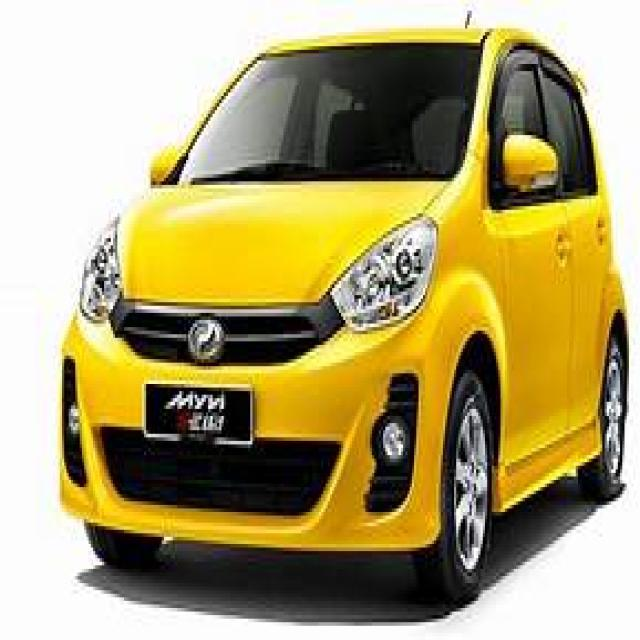PeroduaMyvi: (55, 11, 629, 604)
